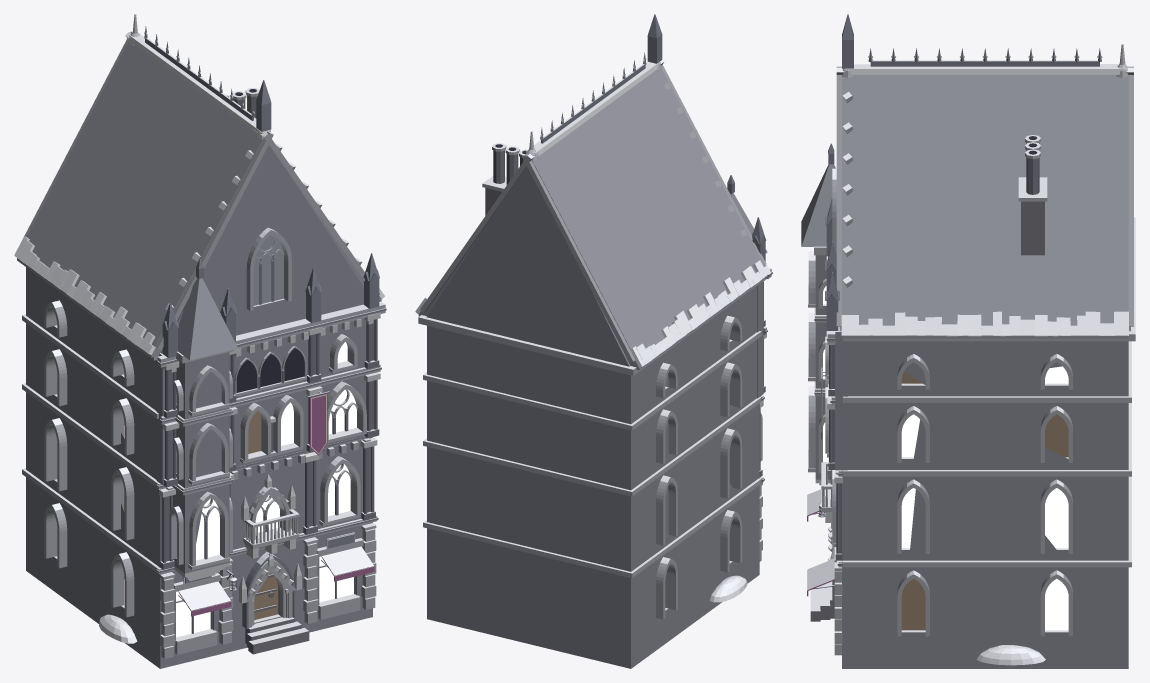
Rendered from AR_Cidade_Sobrado.fbx.
The picture shows the model from 3 angles, left to right: view 1: azimuth 30°, elevation 25°; view 2: azimuth 150°, elevation 25°; view 3: azimuth 270°, elevation 25°; orthographic projection. The views are drawn at different scales.
Visible parts, largest first — view 1: AR_Cidade_Sobrado; view 2: AR_Cidade_Sobrado; view 3: AR_Cidade_Sobrado.
Part boxes in pixels (left/top/right/bottom): AR_Cidade_Sobrado: left=14, top=14, right=386, bottom=668; AR_Cidade_Sobrado: left=415, top=14, right=772, bottom=668; AR_Cidade_Sobrado: left=801, top=14, right=1135, bottom=668.
Size of the model in its own units: 12.67 by 27.7 by 14.01.
